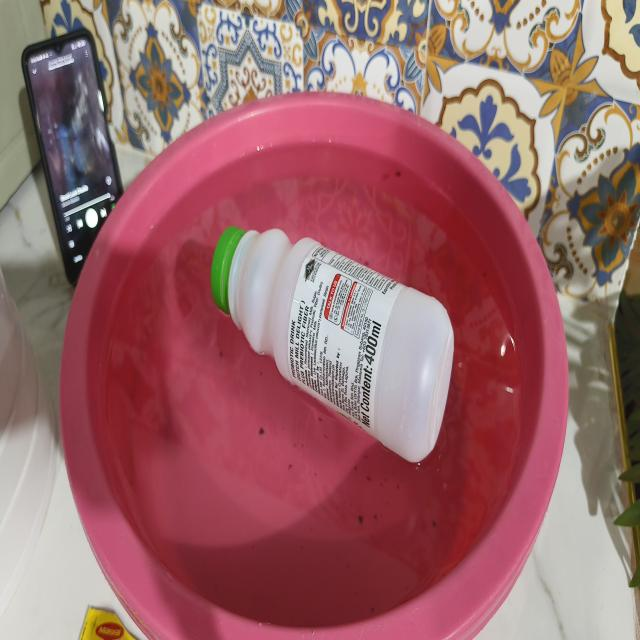Plastic Bottle: (197, 192, 469, 486)
